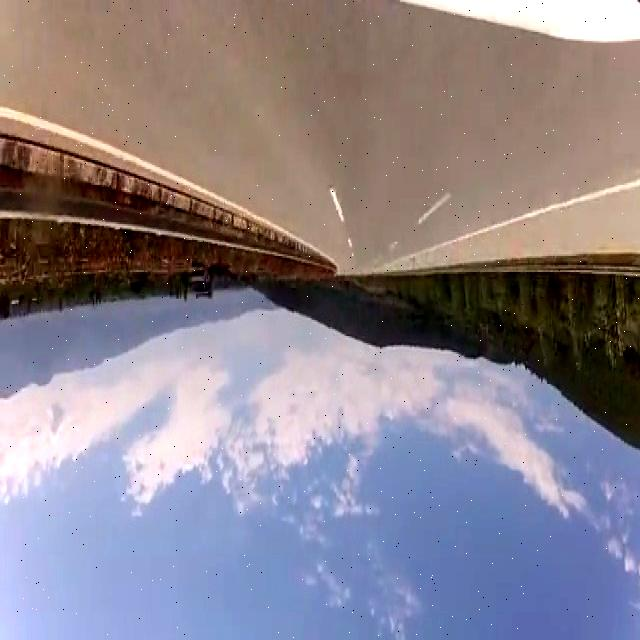lane: (0, 104, 275, 228), (405, 177, 640, 260), (419, 192, 450, 223), (330, 188, 343, 222)
road: (0, 4, 639, 274)
